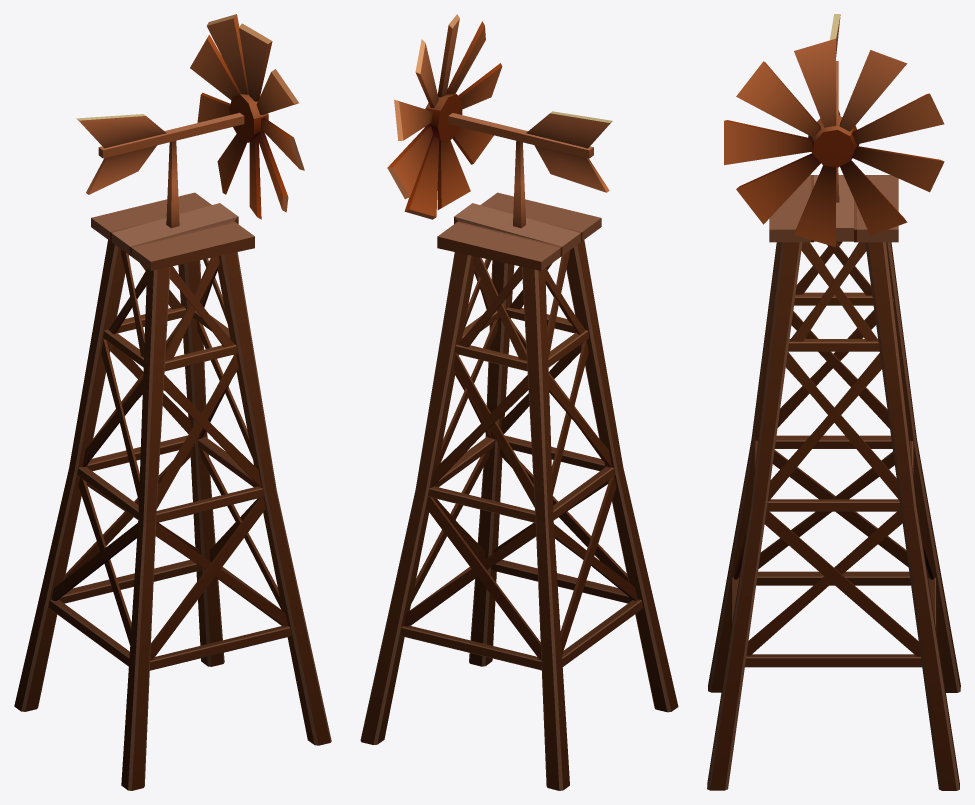
File: vane.fbx
3 renders of one model, left to right at view 1: azimuth 30°, elevation 25°; view 2: azimuth 150°, elevation 25°; view 3: azimuth 270°, elevation 25°, orthographic. The views are drawn at different scales.
Visible parts, largest first — view 1: vane; view 2: vane; view 3: vane.
Boxes of the visible parts, left/top/right/bottom form: vane: left=14, top=14, right=331, bottom=790; vane: left=360, top=14, right=678, bottom=790; vane: left=707, top=14, right=960, bottom=790.
Bounding box in the file's own units: 3.92 × 12.54 × 3.92.
